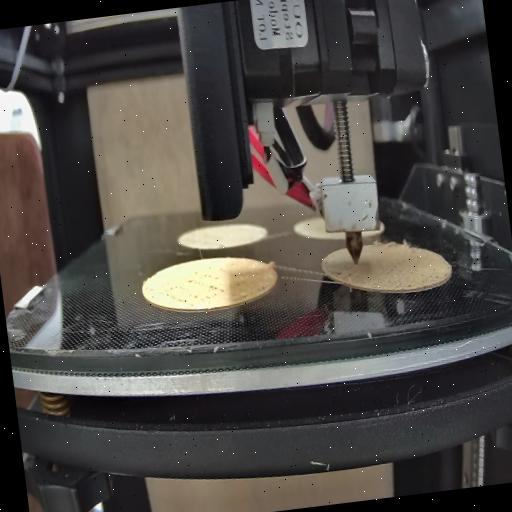under_extrusion: (157, 270, 227, 310), (385, 255, 450, 294), (228, 272, 272, 308), (327, 266, 348, 282)
